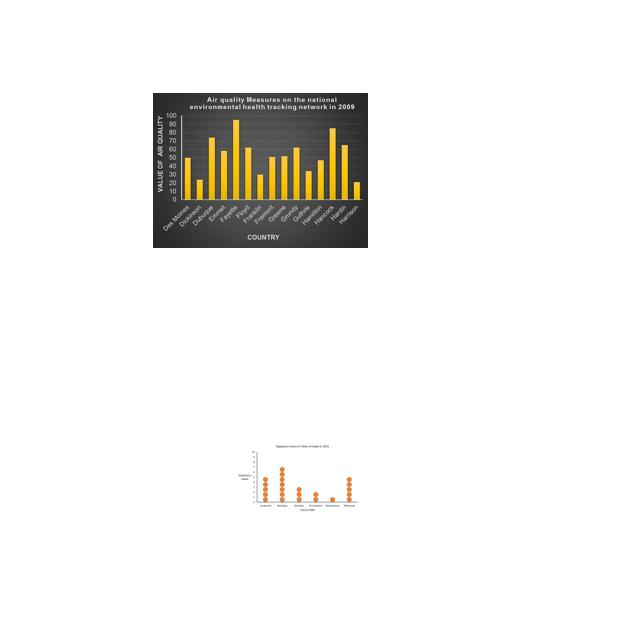Graph: (153, 93, 368, 248), (235, 443, 359, 515)
